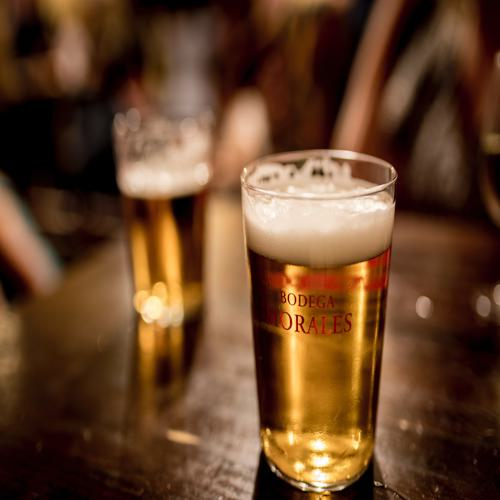vaso: (236, 151, 387, 495), (113, 111, 214, 327)
